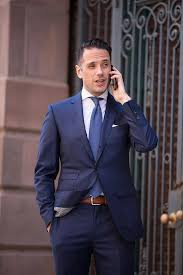F_M_suit jacket: (32, 88, 158, 243)
F_belt: (74, 189, 114, 212)
F_dress pants: (51, 205, 141, 275)
F_tie: (86, 98, 105, 154)
